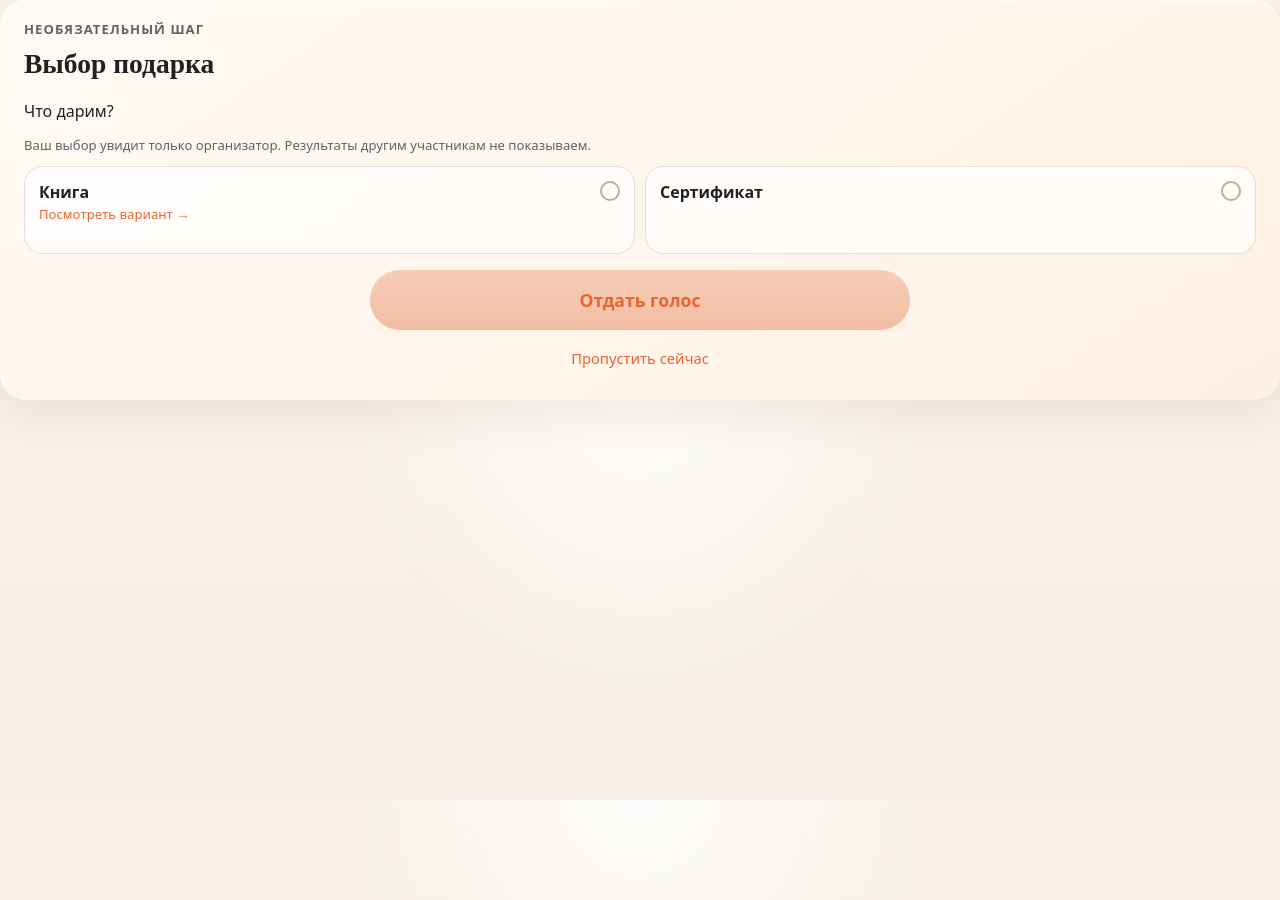
Test: GiftPollVote — post-submit сценарий › выбирает карточку отдельно от товарной ссылки
The width and height of the screenshot is (1280, 900).
Step 1. Click the link with aria-label "открыть вариант «книга»" → [114, 214], box x1=39 y1=206 x2=189 y2=224
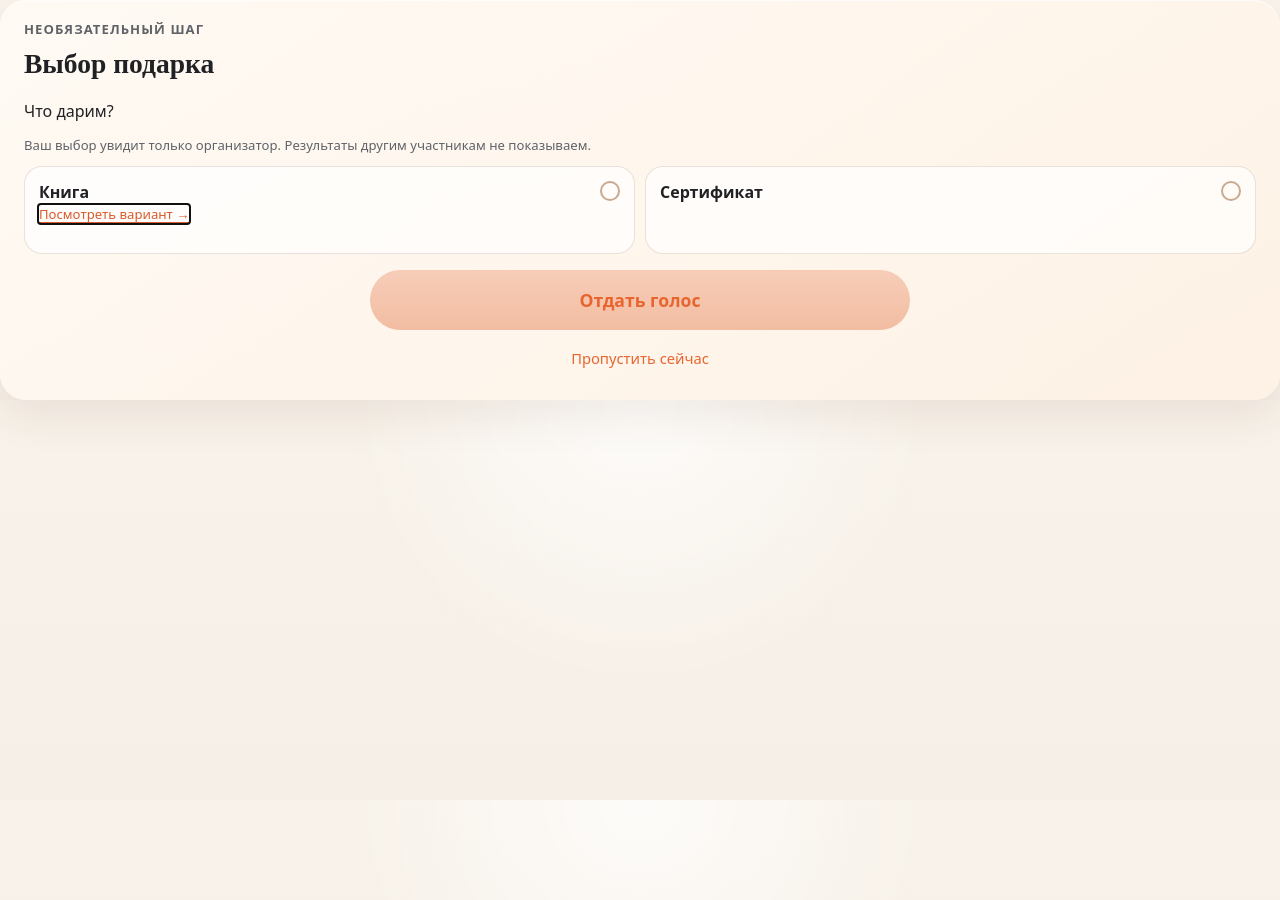
Step 2. Click the radio button labelled "Книга Посмотреть вариант →" → [330, 210], box x1=24 y1=166 x2=635 y2=254
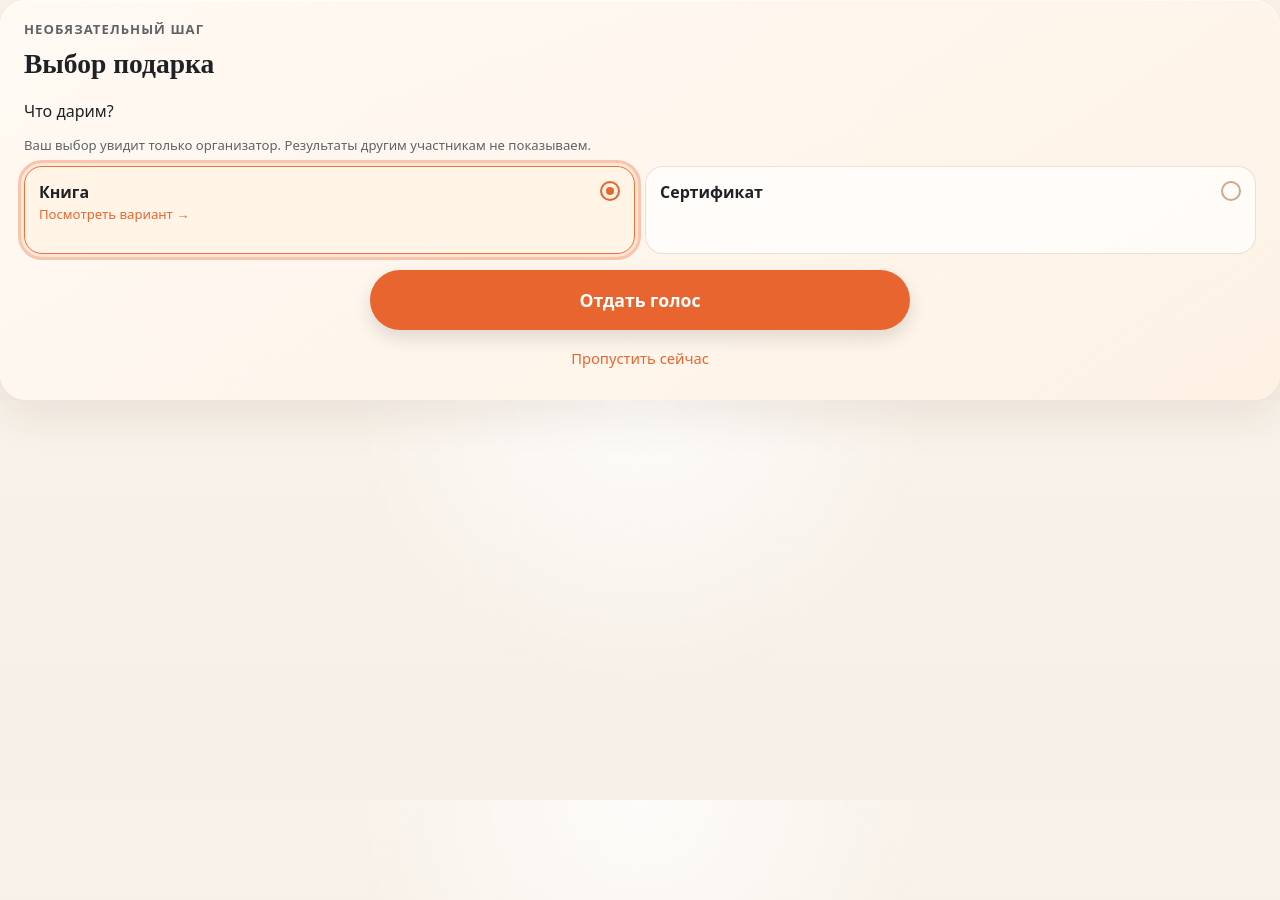
Result: the button "Отдать голос" is enabled at x1=370 y1=270 x2=910 y2=330
